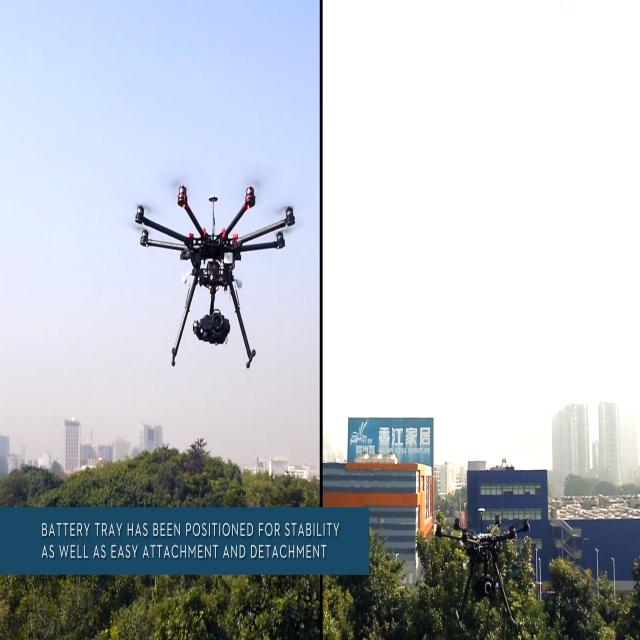drone: (126, 178, 300, 379), (436, 498, 533, 638)
